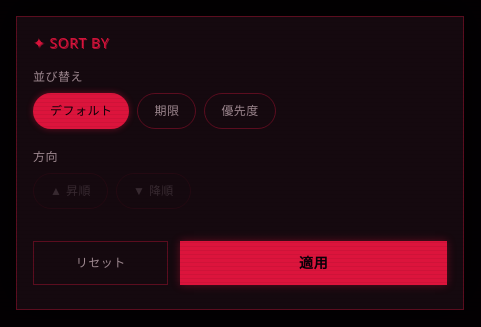
Test: TaskSortSheet 表示 › default 以外を選んだ後は方向ボタンが有効化される
This screenshot has width=481, height=327.
Step 1. Click the button with test id "sort-key-due" → (167, 111), box x1=137 y1=93 x2=196 y2=129
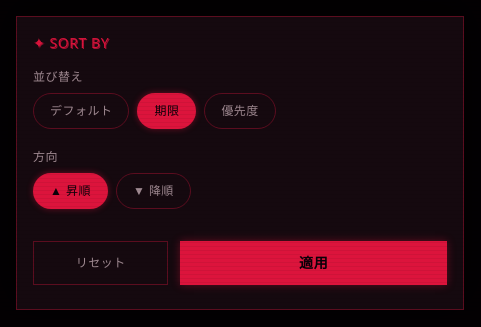
expect the button with test id "sort-dir-asc" is enabled: met, box x1=33 y1=173 x2=108 y2=209
expect the button with test id "sort-dir-desc" is enabled: met, box x1=116 y1=173 x2=191 y2=209
